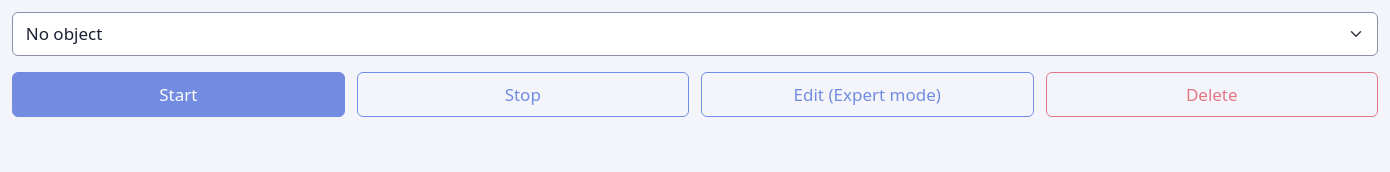
Test: remembers the viewer URL of a started object
Step 1. Select "Name: first" in the dropdown → [695, 34], box x1=12 y1=12 x2=1378 y2=56
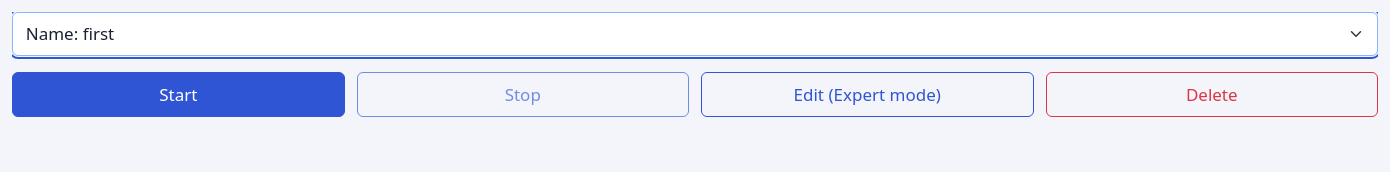
Step 2. Click the button "Start" → [178, 94], box x1=12 y1=72 x2=344 y2=116
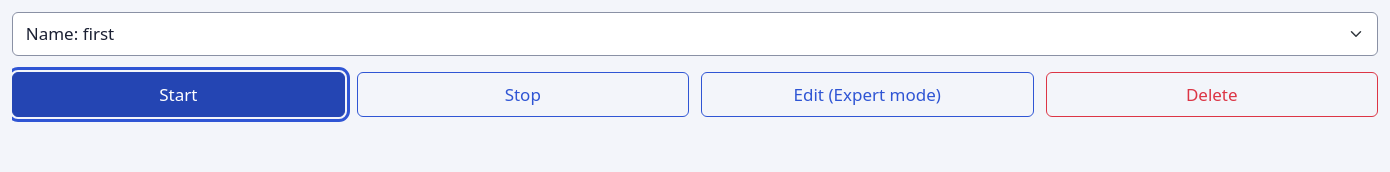
Check: the button "Stop" is enabled, box x1=356 y1=72 x2=689 y2=116
